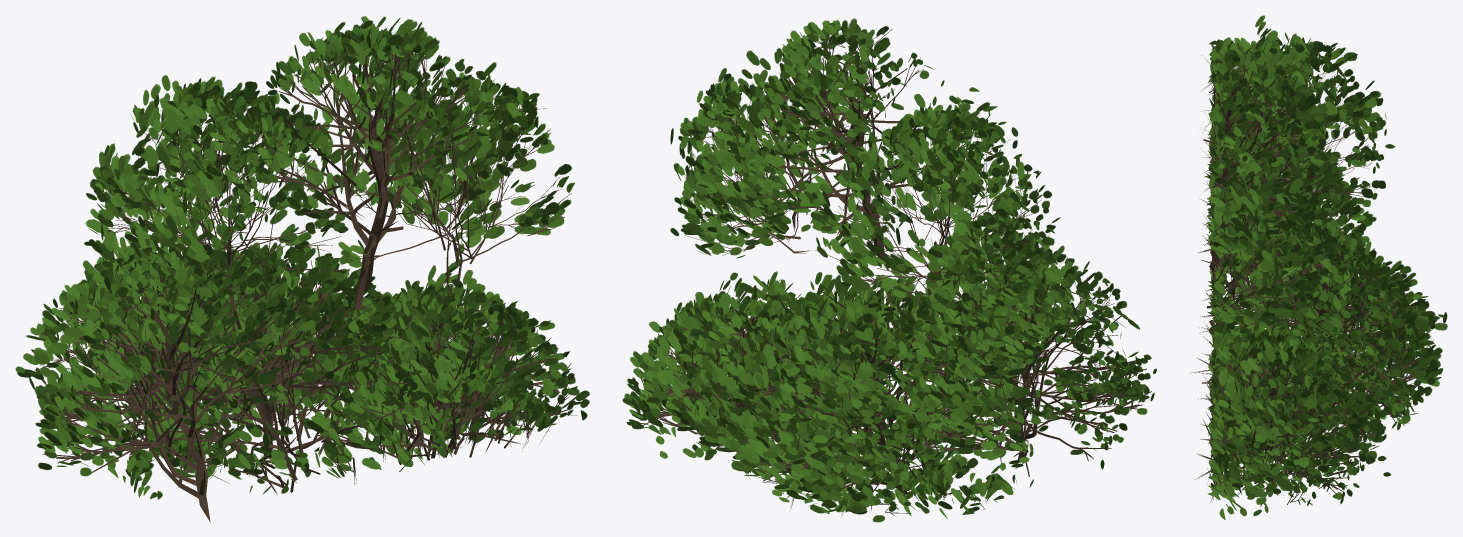
The picture shows the model from 3 angles, left to right: view 1: azimuth 30°, elevation 25°; view 2: azimuth 150°, elevation 25°; view 3: azimuth 270°, elevation 25°; orthographic projection. The views are drawn at different scales.
Visible parts, largest first — view 1: oak 01.001_trunk_Mat.001_0.452; view 2: oak 01.001_trunk_Mat.001_0.452; view 3: oak 01.001_trunk_Mat.001_0.452.
Boxes of the visible parts, x1=… form: oak 01.001_trunk_Mat.001_0.452: x1=15, y1=16, x2=589, y2=522; oak 01.001_trunk_Mat.001_0.452: x1=622, y1=18, x2=1156, y2=522; oak 01.001_trunk_Mat.001_0.452: x1=1189, y1=15, x2=1447, y2=519.
Bounding box in the file's own units: 4.18 × 3.33 × 1.96.
2 materials, 1 textured.
